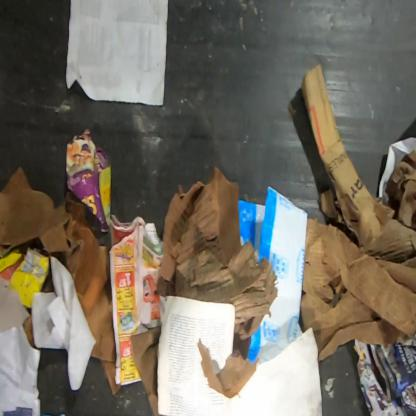cardboard: (300, 62, 416, 363), (0, 166, 121, 396), (157, 166, 278, 341), (198, 338, 260, 398), (0, 247, 50, 308), (131, 326, 160, 416), (23, 314, 35, 348)
soft_plastic: (238, 186, 308, 364)
